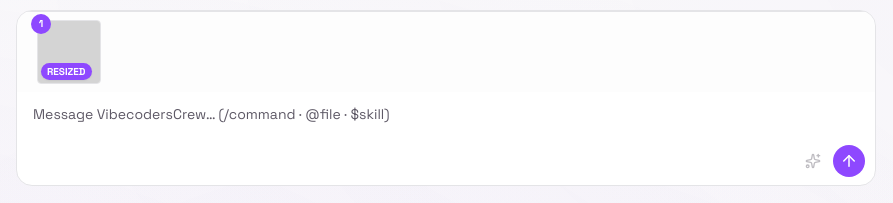
Scenario: ChatInput attachment resize badge › opens the tooltip on keyboard focus too
This screenshot has width=893, height=203.
Focus the text "RESIZED": [66, 71] box top-left (41, 62), bottom-right (92, 80)
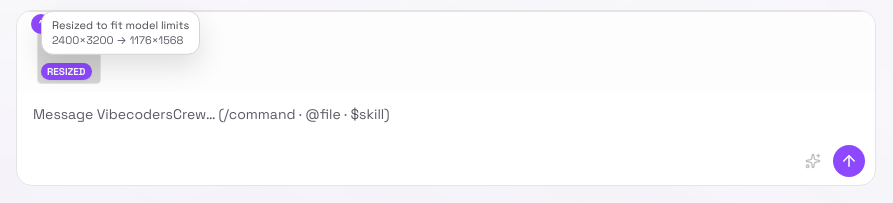
Check: the tooltip "Resized to fit model limits 2400×3200 → 1176×1568" is shown, box top-left (41, 10), bottom-right (200, 55)
